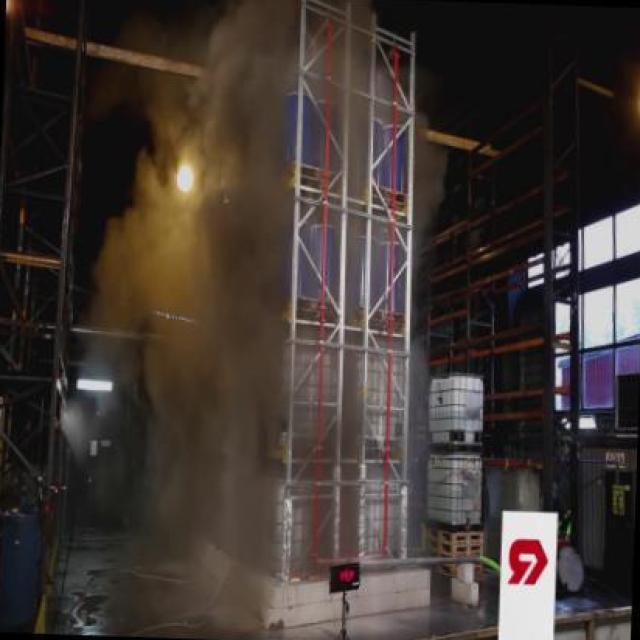fire: (72, 0, 298, 550)
